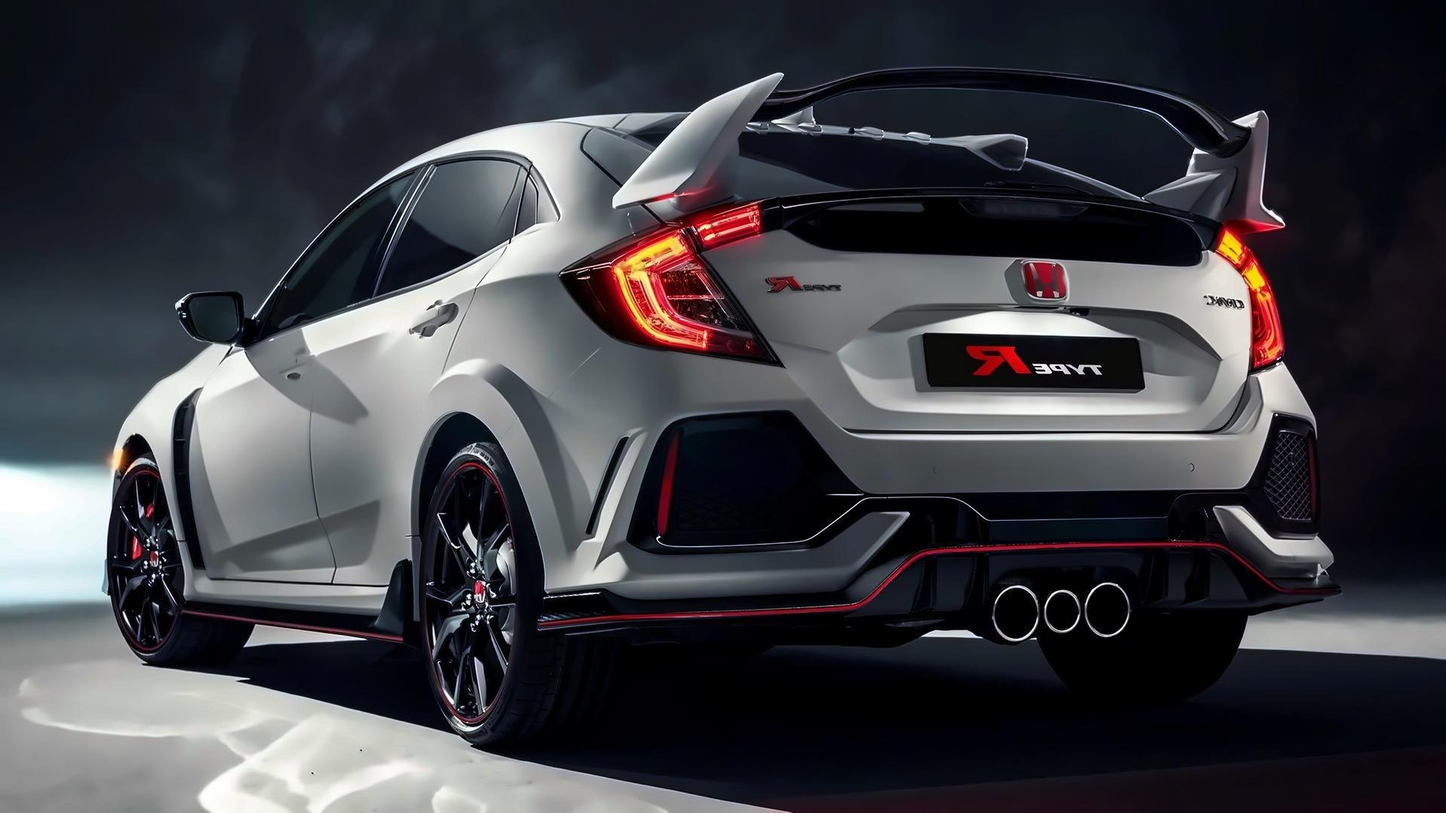Car boot: (689, 147, 1272, 437)
Fender - -F-L-: (99, 333, 227, 608)
Fender - -R-L-: (424, 124, 616, 590)
Passenger-s door - -F-L-: (169, 121, 428, 629)
Passenger-s door - -R-L-: (300, 122, 540, 638)
Rear bumper: (517, 400, 1340, 645)
Rear light - -L-: (553, 195, 782, 373)
Rear light - -R-: (1214, 218, 1285, 376)
Side bumper - -L-: (180, 567, 420, 656)
Side mirror - -L-: (175, 282, 264, 354)
